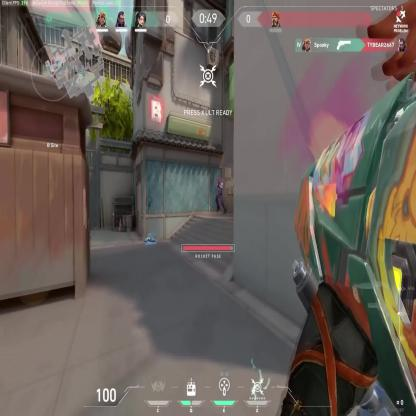enemy: (216, 175, 226, 216)
enemy_head: (218, 177, 221, 182)
